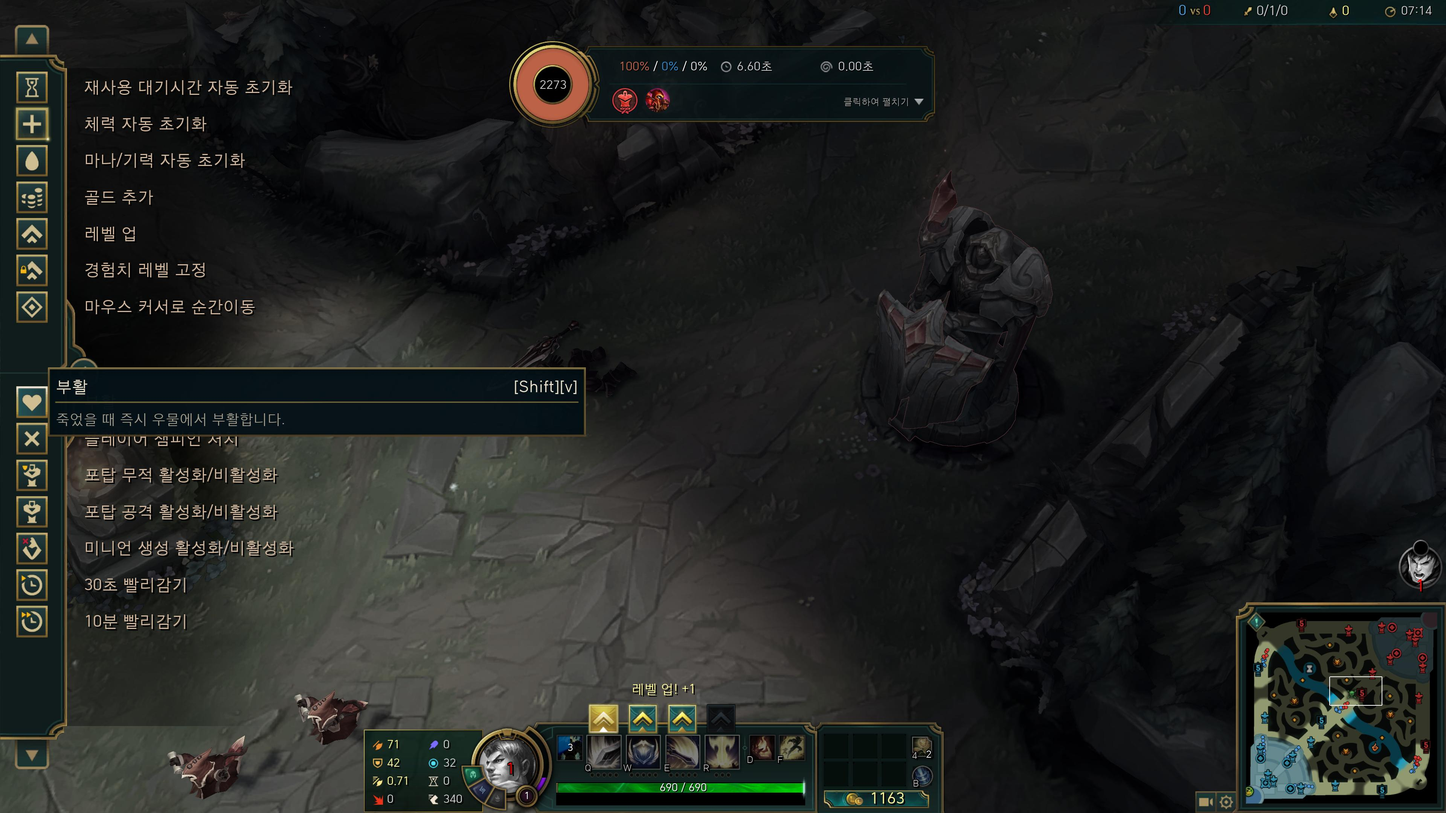enemy-caster-minion: (164, 737, 249, 799), (296, 691, 363, 744)
enemy-tower: (860, 168, 1051, 466)
